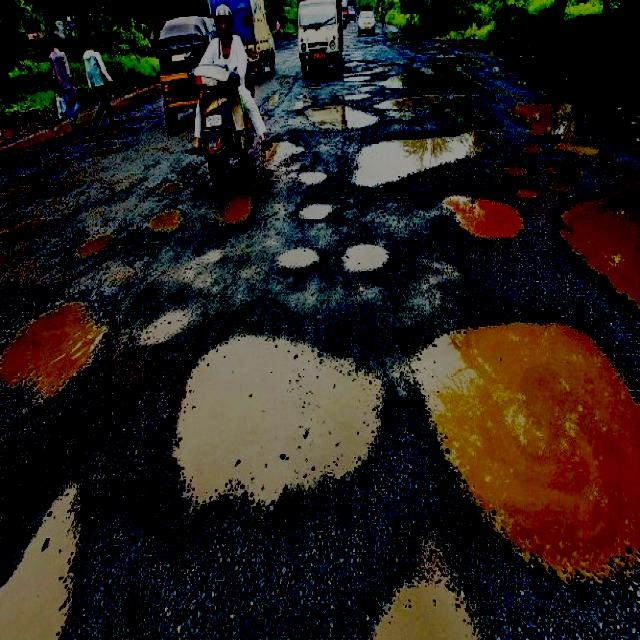Pothole: (161, 319, 640, 640), (306, 97, 532, 252), (3, 280, 113, 416), (550, 150, 640, 314)
